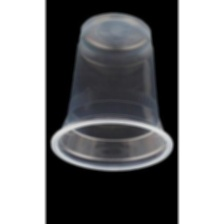glass: (47, 5, 178, 174)
